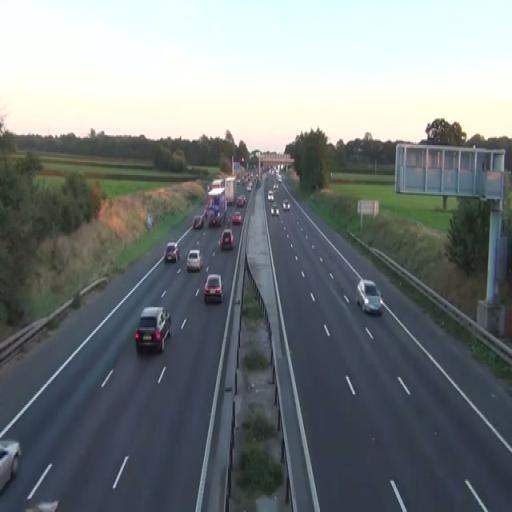Car: (135, 306, 172, 354), (0, 438, 22, 495), (356, 278, 382, 316), (204, 274, 224, 304), (186, 250, 204, 272), (218, 229, 234, 250), (166, 241, 180, 262), (191, 214, 205, 230), (232, 212, 242, 225), (237, 194, 246, 208)
Truck: (205, 184, 227, 228), (224, 176, 238, 206)
